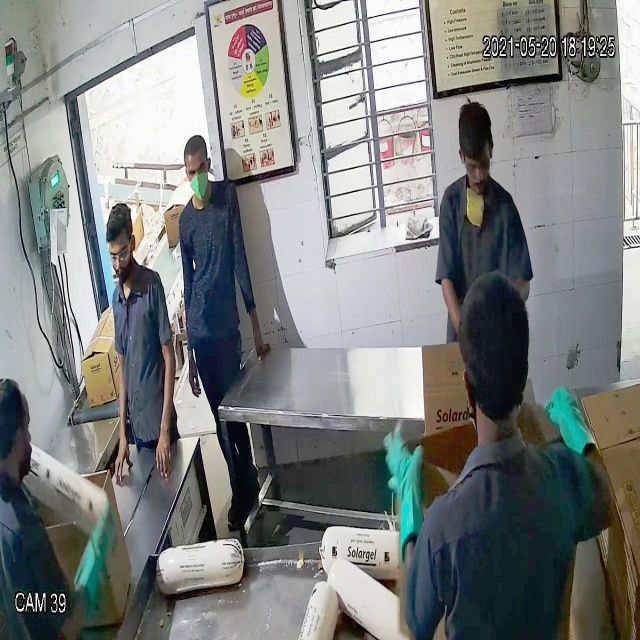Gafas: (104, 236, 135, 268)
Sin_gafas: (183, 157, 210, 184)
